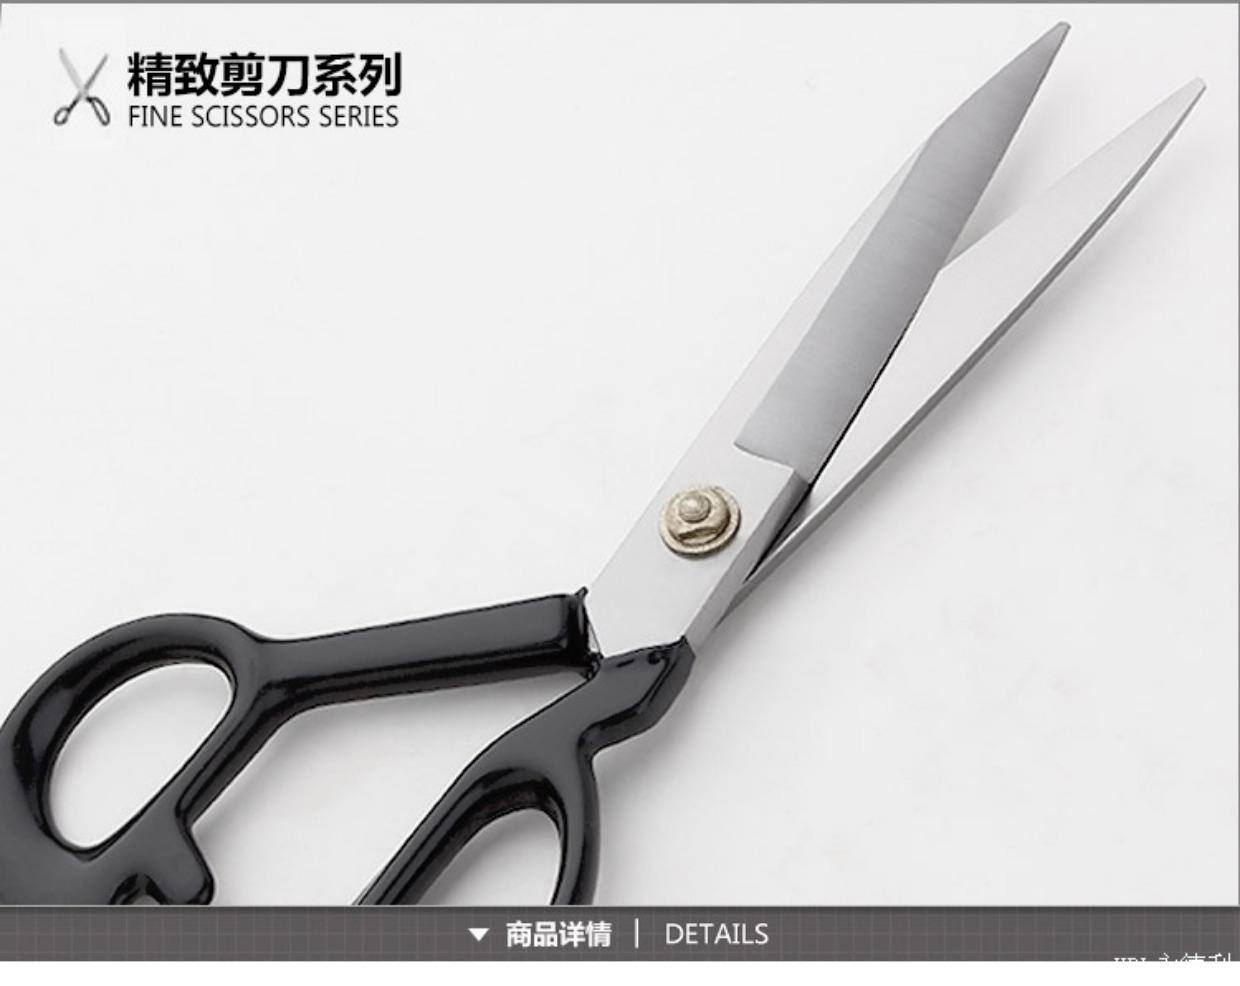scissor: (92, 200, 1180, 919)
